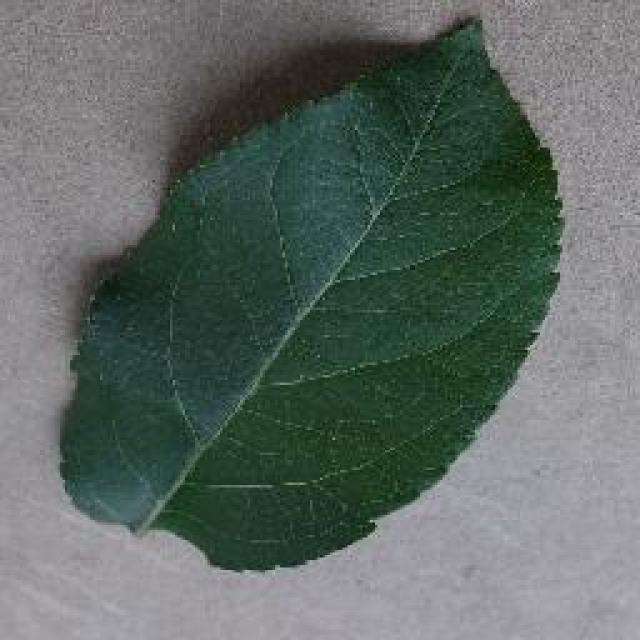apple healthy: (55, 10, 567, 572)
